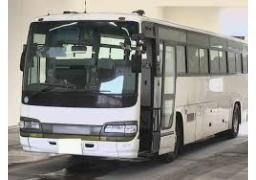bus: (19, 9, 246, 165)
